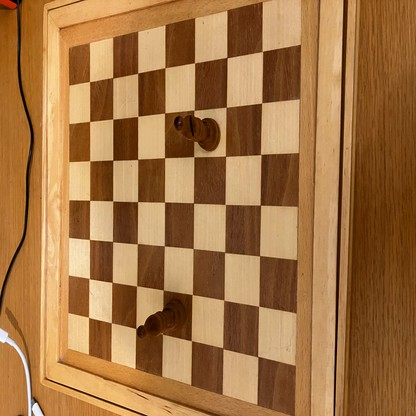bishop_black: (138, 301, 185, 340), (174, 114, 222, 152)
